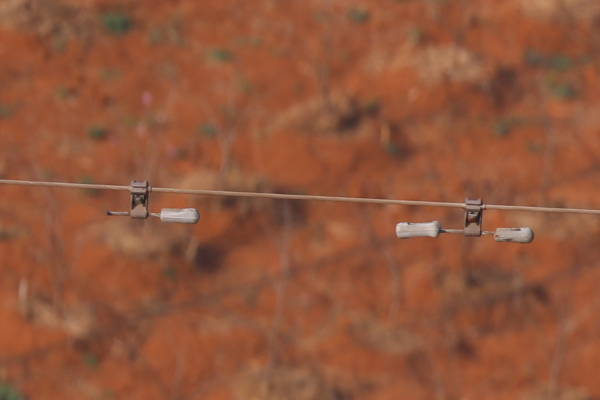damper: (391, 194, 536, 249)
damper_defect: (103, 177, 202, 229)
